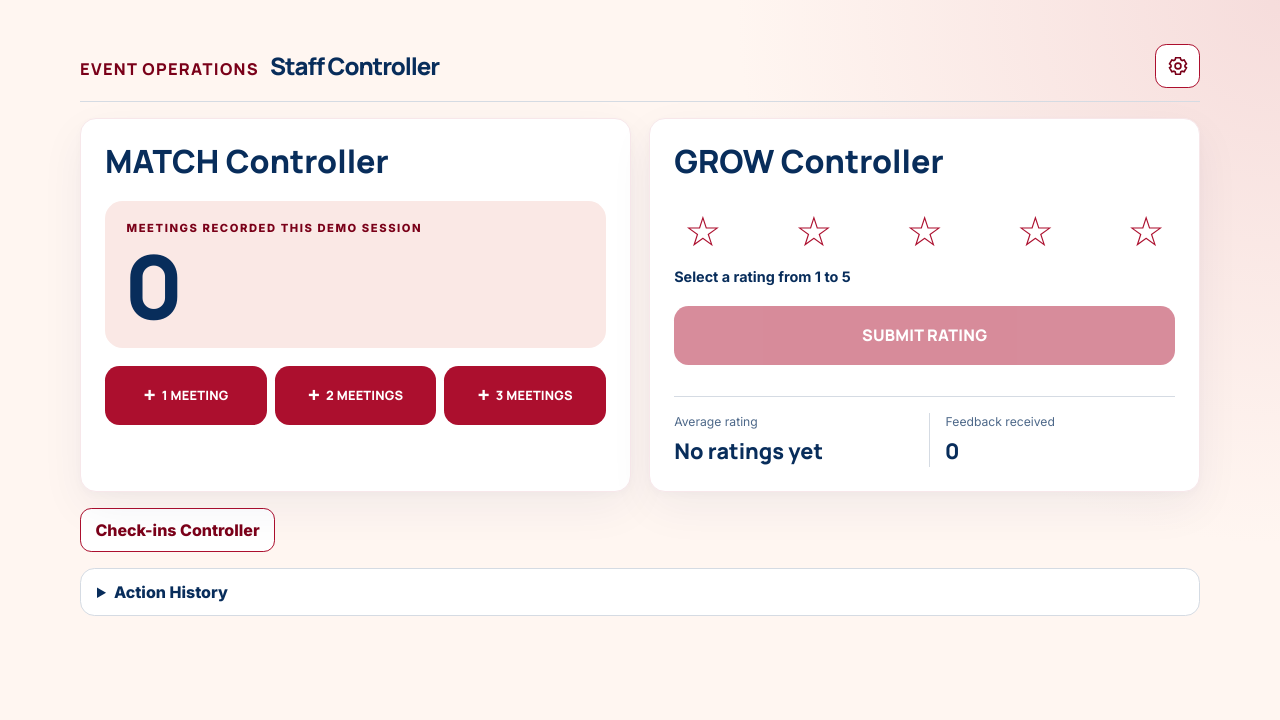
StaffController › records three meetings from the +3 control
Click the button "+ 3 Meetings": (525, 395) [444, 366, 606, 425]
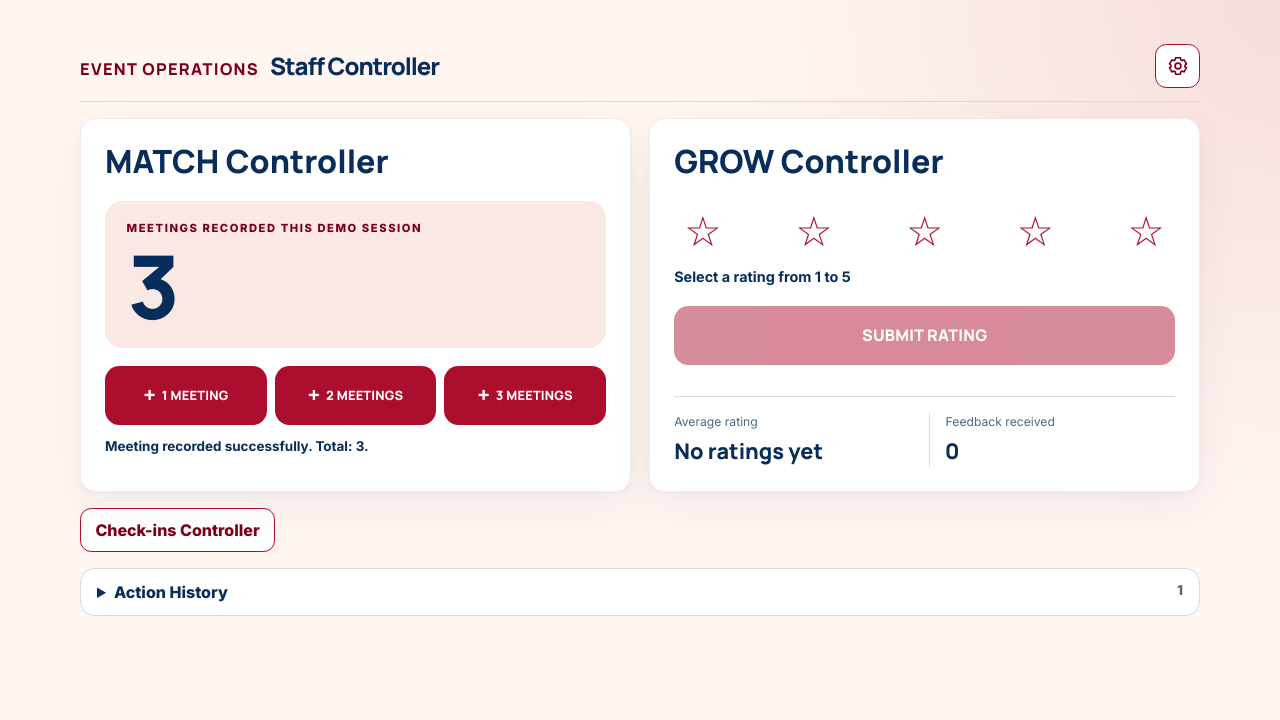
expect the text "Meeting recorded successfully. Total: 3." is shown: met, box [105, 438, 369, 454]
expect the text named "3 completed meetings" is shown: met, box [127, 225, 173, 345]
